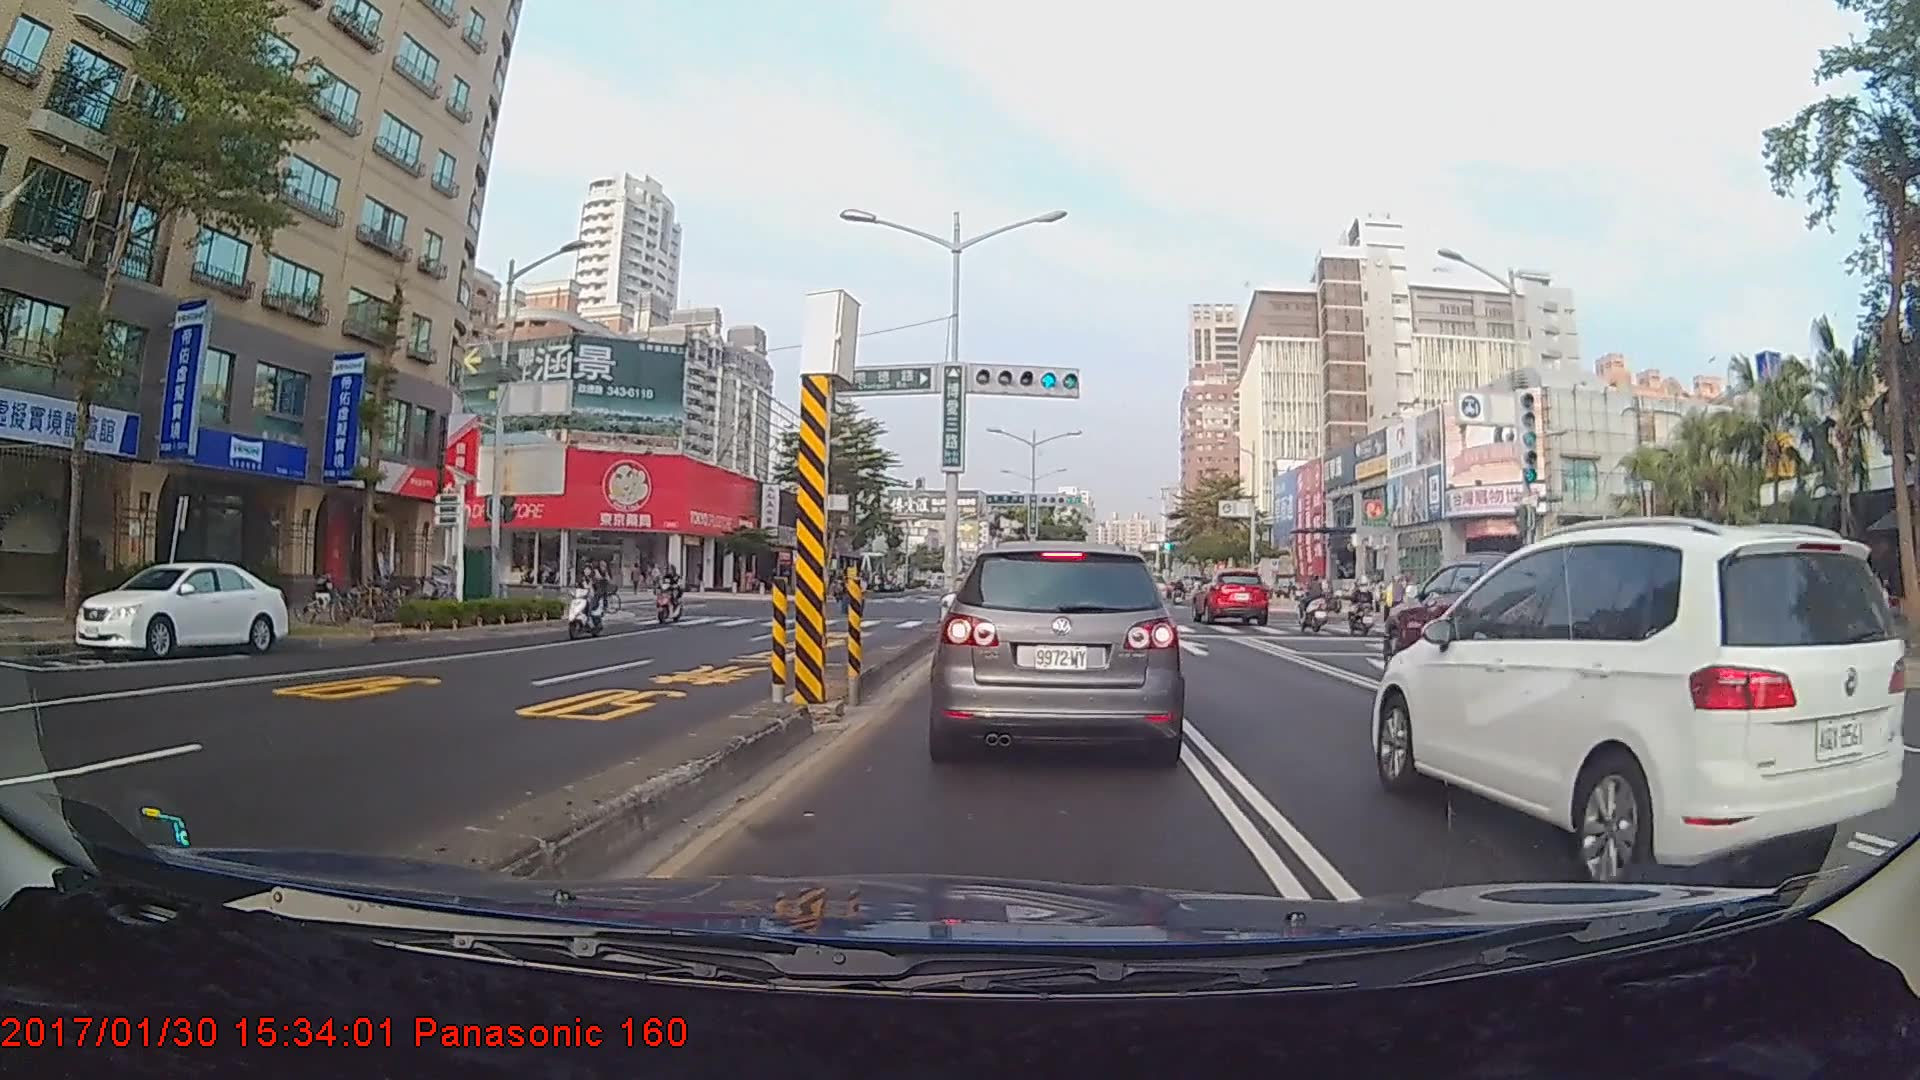rider: (560, 562, 614, 645), (1339, 574, 1388, 636), (1292, 571, 1340, 630), (657, 568, 691, 629)
vehicle: (1371, 515, 1904, 884), (935, 538, 1184, 763), (1390, 552, 1638, 699), (74, 561, 288, 659), (1194, 568, 1270, 624), (1132, 568, 1169, 605)
